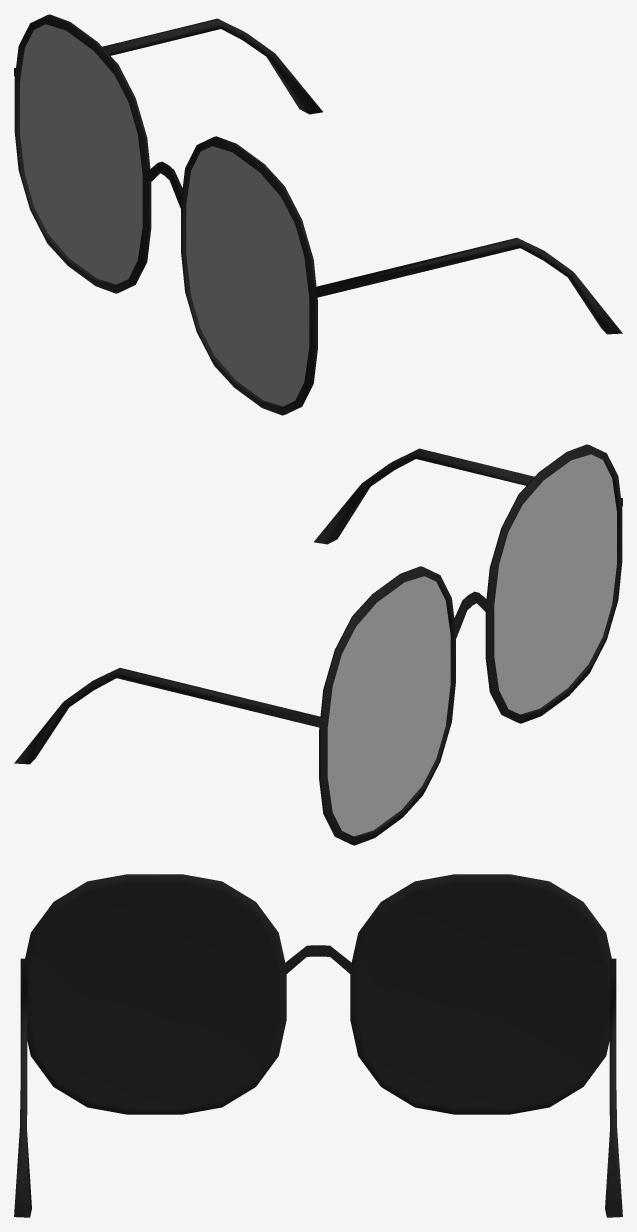
Rendered from glasses (1).fbx.
The picture shows the model from 3 angles, top to bottom: view 1: azimuth 30°, elevation 25°; view 2: azimuth 150°, elevation 25°; view 3: azimuth 270°, elevation 25°; orthographic projection.
Parts seen in each view (by area): view 1: Cube.008, Cube.023; view 2: Cube.008, Cube.023; view 3: Cube.023.
Boxes of the visible parts, bbox=[...] form: Cube.008: bbox=[20, 24, 309, 406]; Cube.023: bbox=[14, 14, 622, 415]; Cube.008: bbox=[327, 454, 616, 836]; Cube.023: bbox=[14, 444, 622, 845]; Cube.023: bbox=[14, 874, 622, 1217].
Size of the model in its own units: 11.63 by 8.8 by 20.31.
Materials: 2 (2 with a texture image).
